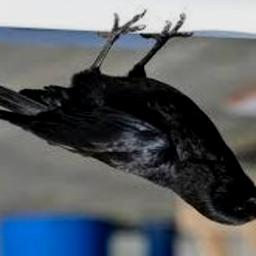Crow: (0, 14, 256, 227)
